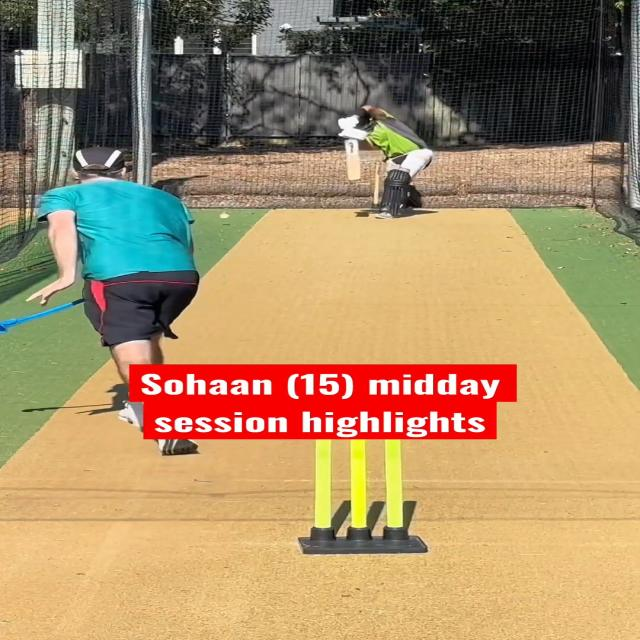Cricket ball: (218, 212, 230, 220)
